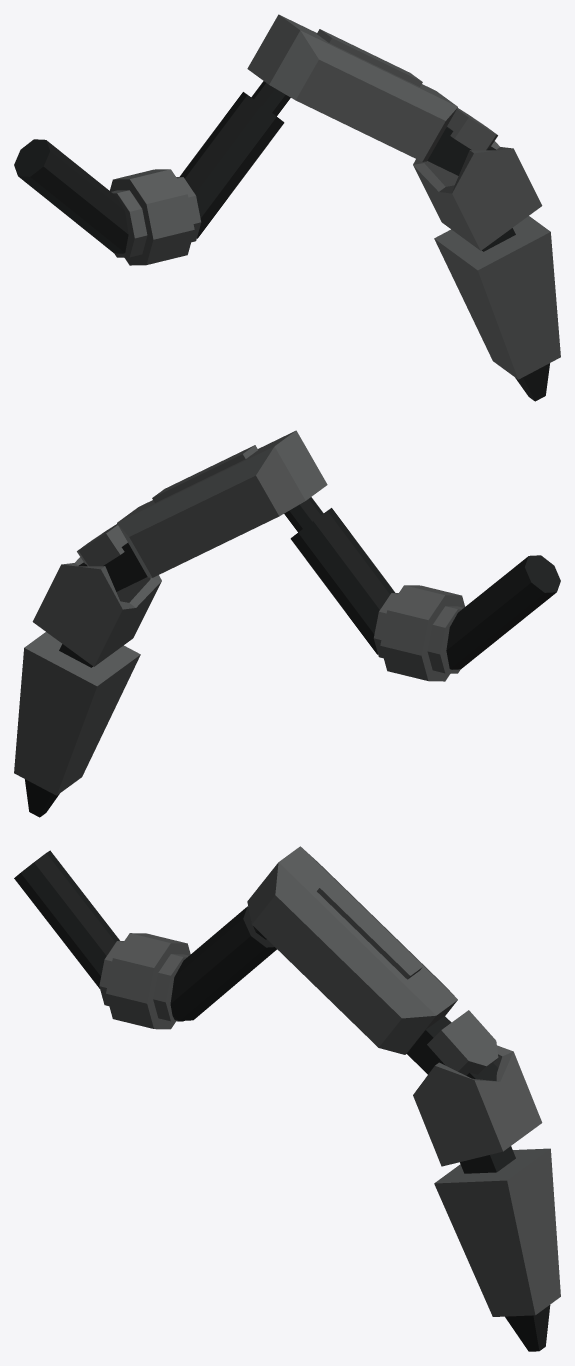
The model's file is Leg1.gltf.
The picture shows the model from 3 angles, top to bottom: view 1: azimuth 30°, elevation 25°; view 2: azimuth 150°, elevation 25°; view 3: azimuth 330°, elevation 25°; orthographic projection.
Visible parts, largest first — view 1: Legs.001; view 2: Legs.001; view 3: Legs.001.
Boxes of the visible parts, box(x1,y1,x2,y2) form: Legs.001: box(14, 14, 560, 401); Legs.001: box(14, 430, 560, 817); Legs.001: box(14, 846, 560, 1351).
Bounding box in the file's own units: 0.5946 × 0.4673 × 0.0925.
1 material, 1 textured.
